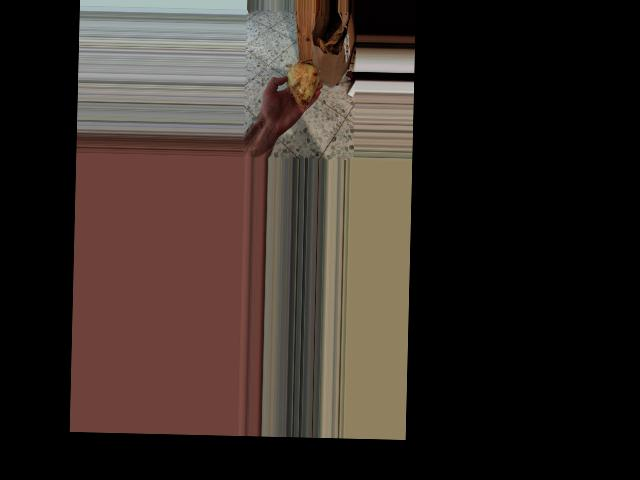onion: (279, 56, 322, 113)
